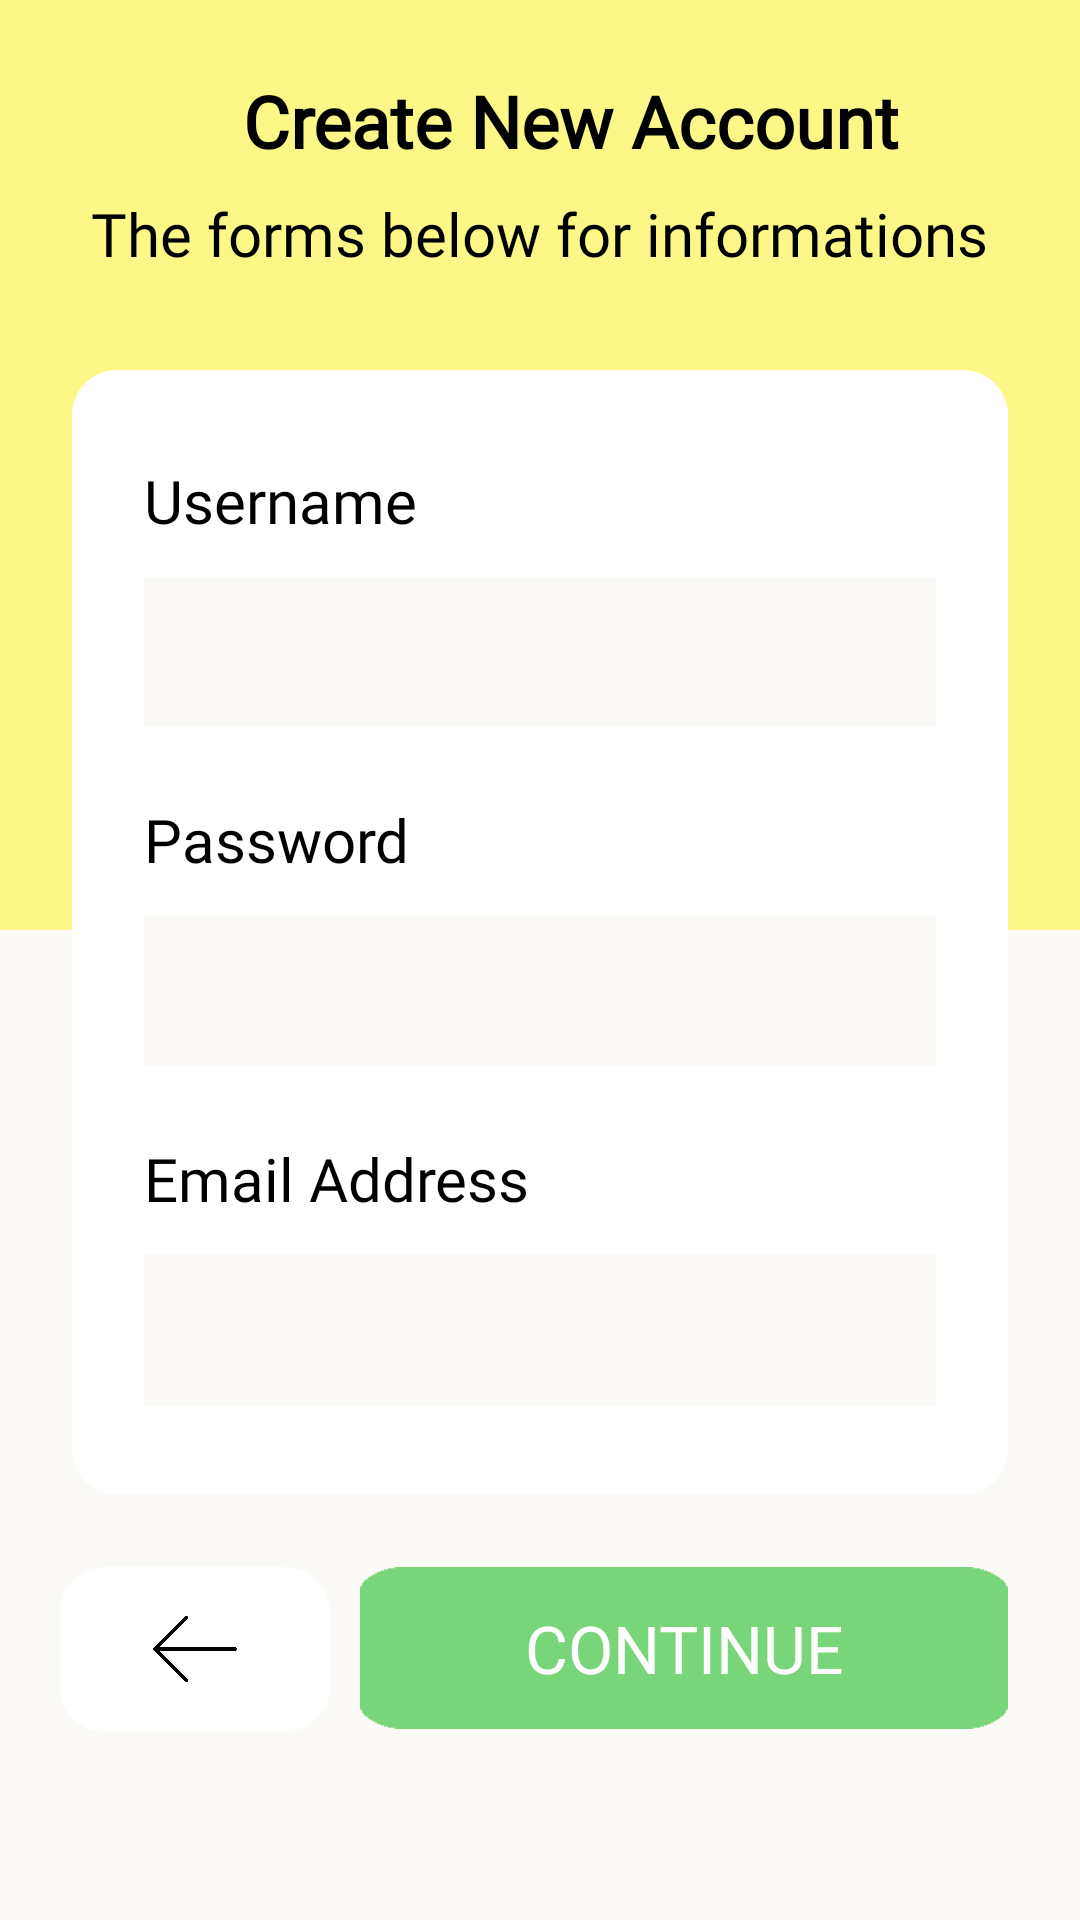

Where to tap for icons on this 1080w x 1920h app screen, as [x,y]:
buttonback: [195,1649]
